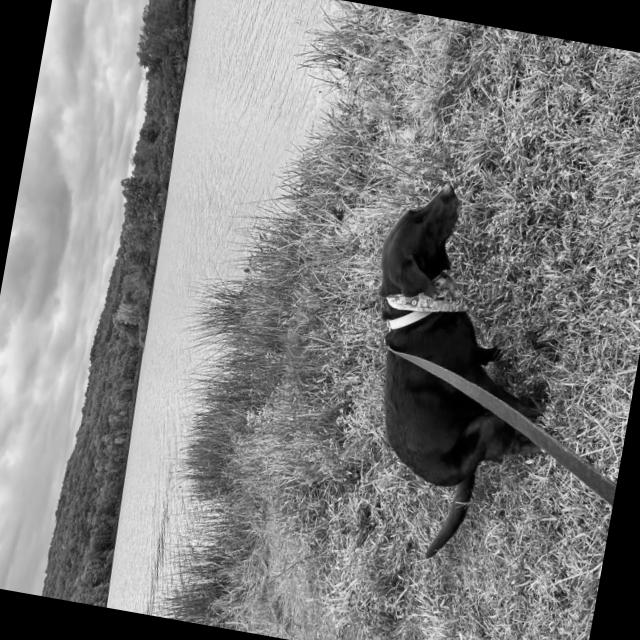squatting: (324, 166, 592, 582)
